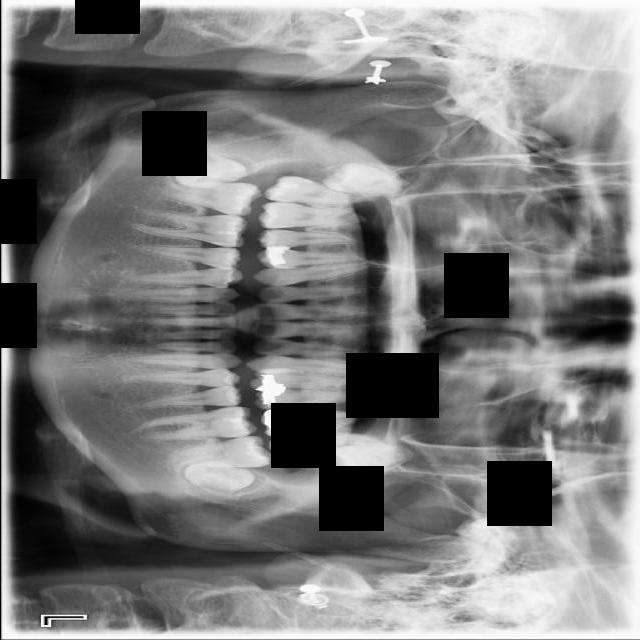3M ESPE Implant: (319, 161, 406, 196)
52: (204, 210, 250, 251), (214, 405, 258, 439), (257, 409, 307, 438), (249, 367, 303, 390), (255, 246, 303, 270), (252, 389, 299, 411)
73: (90, 566, 101, 572)
BioHorizons Implant: (268, 429, 388, 466)
BioLife Implant: (323, 442, 409, 477)
Biomet 3i Implant: (182, 461, 255, 497)
Blue Sky Bio Implant: (163, 435, 272, 471)
Caries: (263, 174, 383, 208)
Implant: (159, 177, 263, 217)
Keystone Dental Implant: (172, 149, 249, 191)
